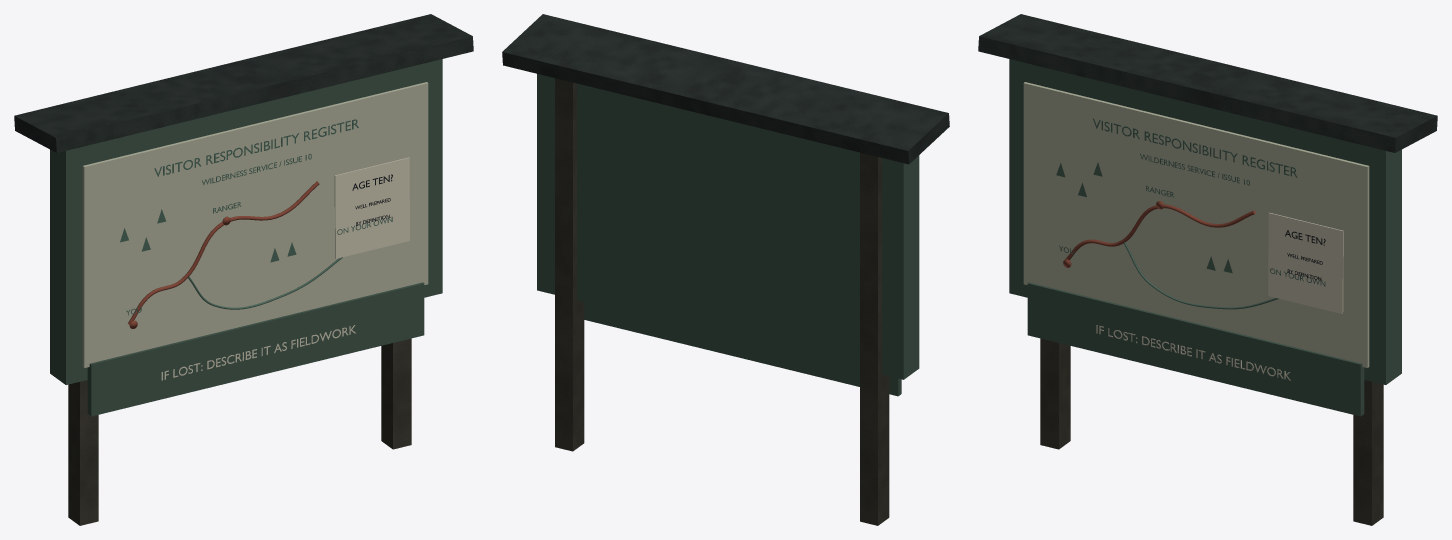
Rendered from forest-trailboard.glb.
3 views of the same model, side by side, from view 1: azimuth 30°, elevation 25°; view 2: azimuth 150°, elevation 25°; view 3: azimuth 330°, elevation 25° (orthographic). The views are drawn at different scales.
Visible parts, largest first — view 1: Faded trail map paper, Register rain roof, Forest register frame, Responsibility plaque, Waiver paper, Trailboard hardwood post, Trailboard hardwood post.001, Printed woodland route, Forest map title, Register disclaimer; view 2: Forest register frame, Register rain roof, Trailboard hardwood post.001, Trailboard hardwood post, Responsibility plaque; view 3: Faded trail map paper, Register rain roof, Forest register frame, Responsibility plaque, Waiver paper, Trailboard hardwood post.001, Trailboard hardwood post, Forest map title, Printed woodland route, Register disclaimer.
Boxes of the visible parts, left/top/right/bottom form: Faded trail map paper: left=82, top=82, right=428, bottom=367; Register rain roof: left=14, top=14, right=473, bottom=152; Forest register frame: left=50, top=59, right=442, bottom=384; Responsibility plaque: left=87, top=282, right=424, bottom=416; Waiver paper: left=334, top=157, right=409, bottom=258; Trailboard hardwood post: left=68, top=380, right=98, bottom=525; Trailboard hardwood post.001: left=381, top=338, right=411, bottom=449; Printed woodland route: left=128, top=181, right=319, bottom=324; Forest map title: left=154, top=119, right=358, bottom=176; Register disclaimer: left=161, top=325, right=355, bottom=380; Forest register frame: left=537, top=74, right=919, bottom=379; Register rain roof: left=502, top=14, right=949, bottom=164; Trailboard hardwood post.001: left=555, top=78, right=584, bottom=451; Trailboard hardwood post: left=860, top=152, right=889, bottom=525; Responsibility plaque: left=584, top=302, right=901, bottom=396; Faded trail map paper: left=1023, top=82, right=1369, bottom=367; Register rain roof: left=978, top=14, right=1437, bottom=152; Forest register frame: left=1009, top=59, right=1401, bottom=384; Responsibility plaque: left=1027, top=282, right=1364, bottom=416; Waiver paper: left=1268, top=212, right=1343, bottom=313; Trailboard hardwood post.001: left=1353, top=380, right=1383, bottom=525; Trailboard hardwood post: left=1040, top=338, right=1070, bottom=449; Forest map title: left=1093, top=118, right=1297, bottom=177; Printed woodland route: left=1065, top=204, right=1255, bottom=260; Register disclaimer: left=1096, top=325, right=1290, bottom=380.
Size of the model in its own units: 2.69 by 2.54 by 0.477.
8 materials, 2 textured.
